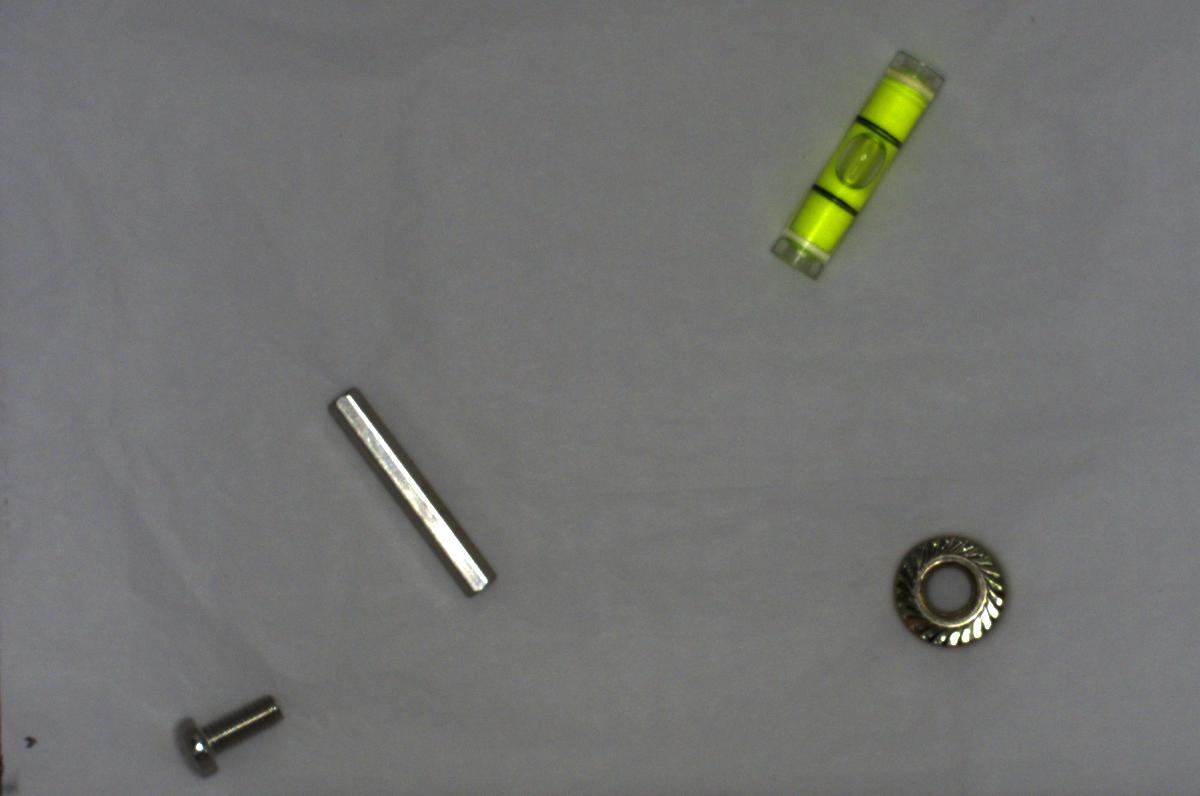Double hexagonal column: (325, 380, 498, 600)
Flange nut: (891, 527, 1012, 649)
Horizontal bubble: (770, 45, 950, 295)
Round head screw: (166, 687, 285, 782)
